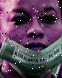mask_weared_incorrect: (1, 2, 62, 78)
